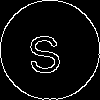S: (25, 25, 63, 75)
